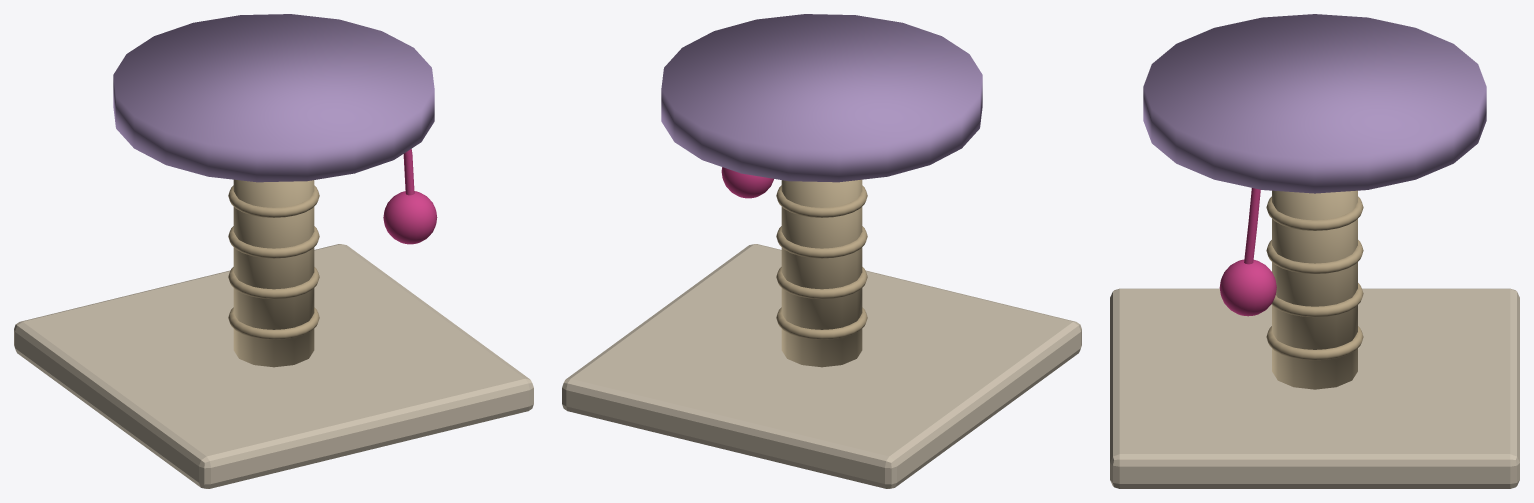
File: cat_tree.glb
The picture shows the model from 3 angles, left to right: view 1: azimuth 30°, elevation 25°; view 2: azimuth 150°, elevation 25°; view 3: azimuth 270°, elevation 25°; orthographic projection. The views are drawn at different scales.
Visible parts, largest first — view 1: cat_tree; view 2: cat_tree; view 3: cat_tree.
Boxes of the visible parts, x1,y1,x2,y2 form: cat_tree: [14, 14, 533, 488]; cat_tree: [562, 14, 1081, 488]; cat_tree: [1110, 14, 1519, 488].
Size of the model in its own units: 0.86 by 0.74 by 0.86.
